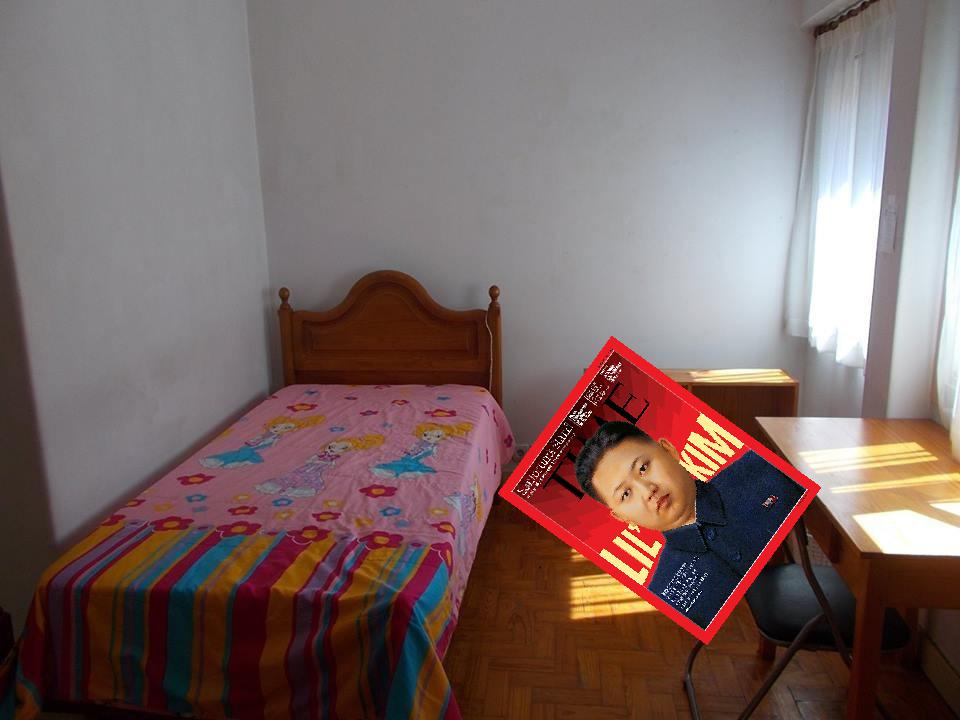times: (494, 333, 823, 644)
